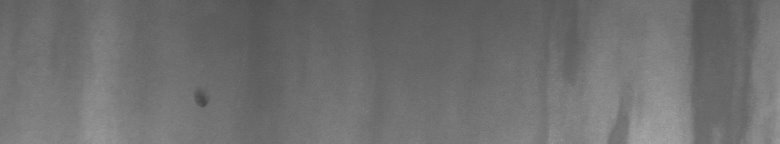fi: (191, 91, 211, 112)
